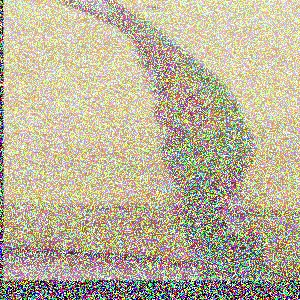Brown_Spot: (205, 159, 257, 263), (151, 157, 204, 223), (120, 34, 173, 94), (175, 83, 231, 132), (50, 0, 130, 26), (146, 101, 185, 154)
